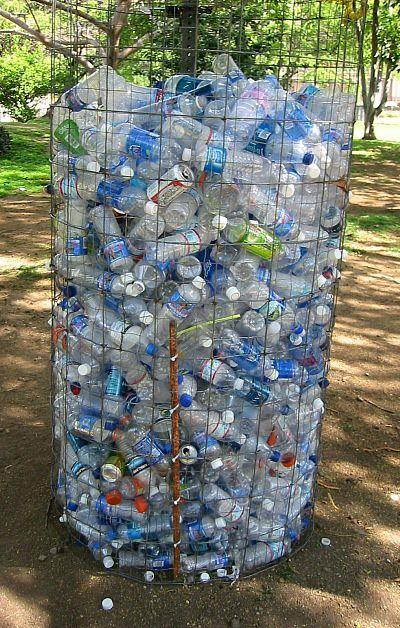HDPE: (143, 200, 159, 216), (138, 310, 154, 326), (211, 214, 228, 229), (281, 183, 296, 199), (191, 275, 207, 290), (225, 286, 240, 302), (305, 164, 321, 179), (120, 165, 134, 181), (179, 393, 193, 408), (120, 271, 134, 285), (144, 342, 158, 356), (101, 555, 115, 569), (261, 498, 275, 512), (318, 156, 332, 170), (77, 363, 92, 376), (329, 247, 342, 262), (293, 324, 306, 339), (101, 597, 114, 611), (210, 457, 224, 470), (63, 286, 77, 299), (86, 161, 101, 173), (214, 516, 227, 529), (199, 335, 212, 348), (222, 410, 234, 424), (315, 144, 327, 158), (100, 123, 112, 137), (181, 146, 192, 161), (302, 152, 314, 165), (312, 398, 324, 411), (126, 285, 139, 297), (236, 433, 248, 446), (267, 369, 279, 381), (234, 377, 244, 391), (270, 450, 281, 462), (315, 304, 325, 317), (216, 567, 227, 578), (144, 570, 154, 582), (200, 572, 210, 584), (320, 536, 331, 546)
PETE: (216, 77, 275, 152), (141, 283, 201, 346), (235, 183, 299, 240), (190, 144, 275, 186), (110, 122, 182, 169), (237, 276, 297, 329), (90, 203, 134, 273), (161, 109, 229, 153), (79, 174, 144, 216), (143, 228, 213, 266), (65, 312, 117, 363), (224, 218, 284, 262), (179, 399, 239, 441), (108, 347, 152, 404), (61, 409, 127, 447), (175, 352, 238, 388), (125, 423, 164, 481), (245, 127, 305, 163), (199, 480, 247, 525), (200, 174, 242, 216), (238, 537, 292, 569), (163, 188, 202, 232), (117, 514, 173, 542), (118, 545, 175, 571), (178, 553, 230, 577), (235, 310, 265, 342)
